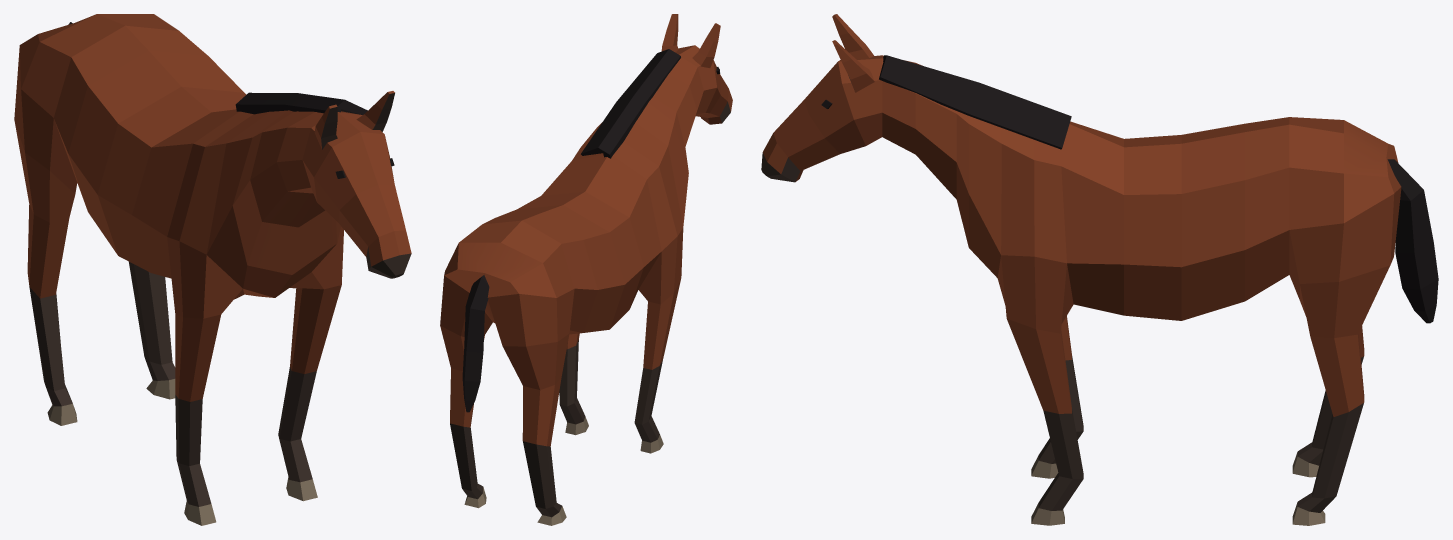
The model's file is a4f539f3-f2ae-4cea-b8ec-8db1534cd377.glb.
3 views of the same model, side by side, from view 1: azimuth 30°, elevation 25°; view 2: azimuth 150°, elevation 25°; view 3: azimuth 270°, elevation 25° (orthographic). The views are drawn at different scales.
Visible parts, largest first — view 1: Geo_Horse; view 2: Geo_Horse; view 3: Geo_Horse.
Boxes of the visible parts, x1=… form: Geo_Horse: x1=14, y1=14, x2=411, y2=525; Geo_Horse: x1=440, y1=14, x2=732, y2=525; Geo_Horse: x1=761, y1=14, x2=1438, y2=525.
Size of the model in its own units: 73.07 by 203 by 266.
1 material, 1 textured.
